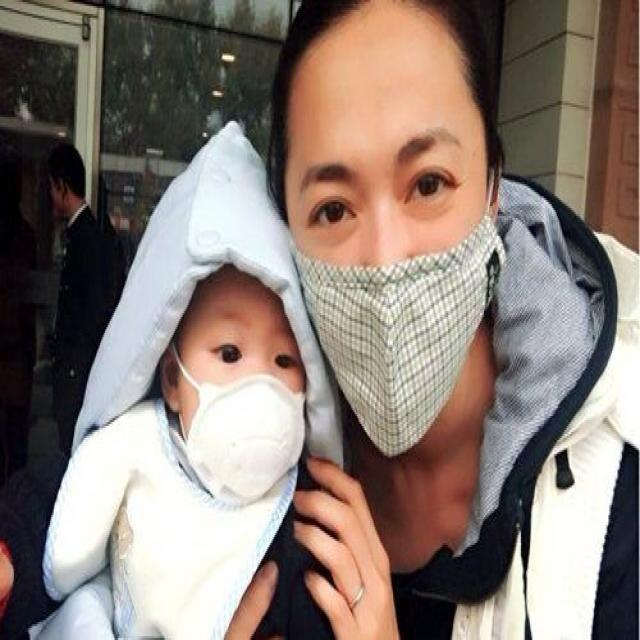mask: (288, 16, 490, 452), (185, 286, 304, 498)
